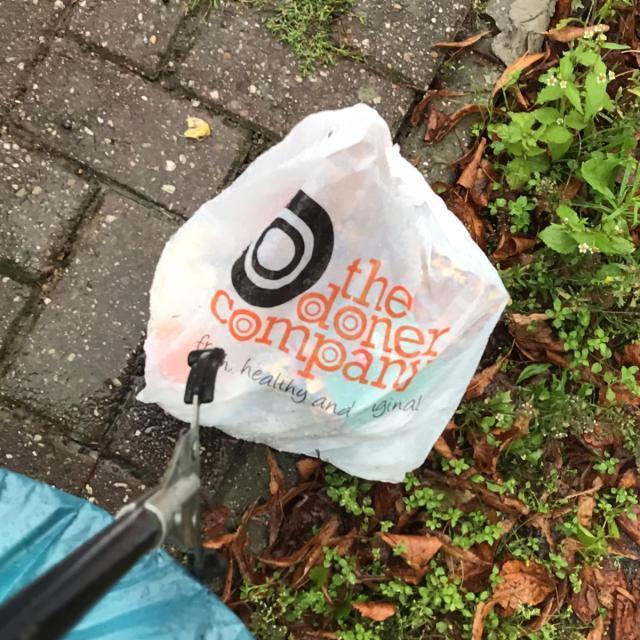Paper: (132, 101, 510, 487)
